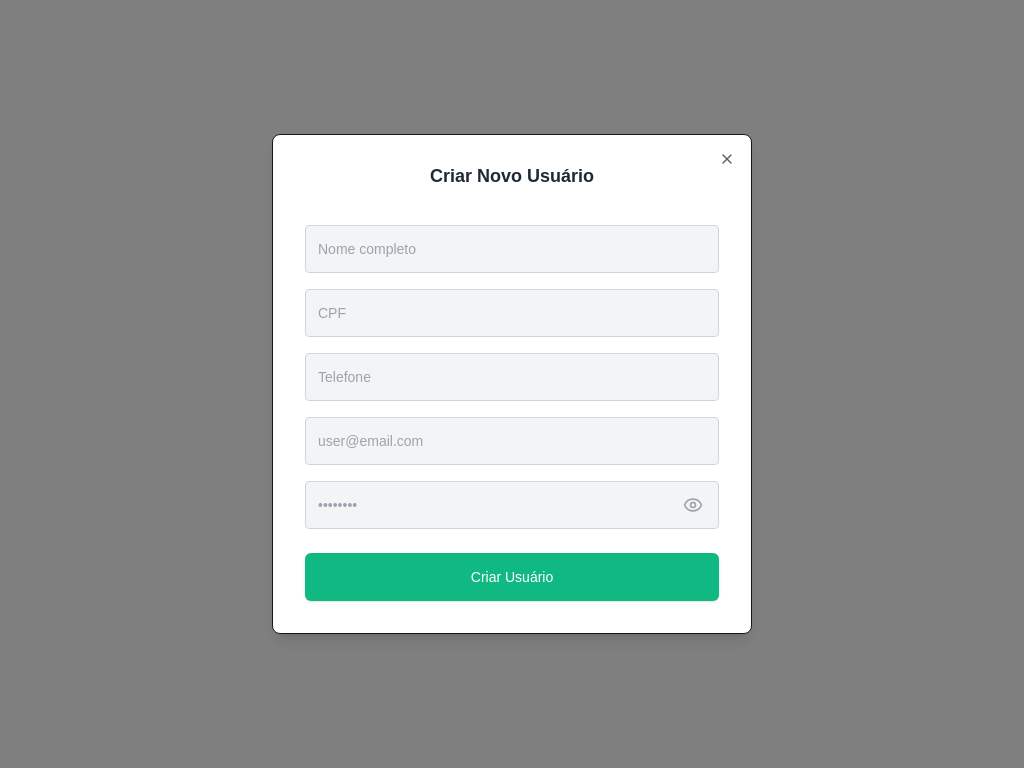
Test case: CreateUserModal › formats CPF correctly
Type "12345678901" into the field with placeholder "CPF" at (512, 313), box [305, 289, 719, 337]
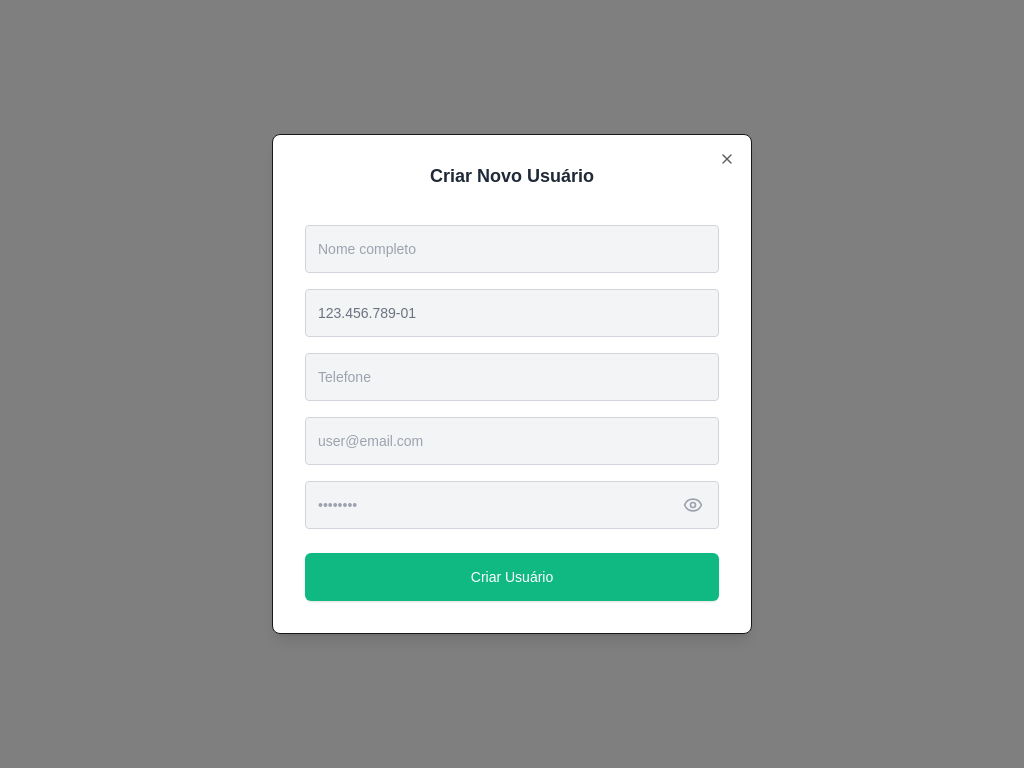
Expected: the field with placeholder "CPF" holds "123.456.789-01", [305, 289, 719, 337]
